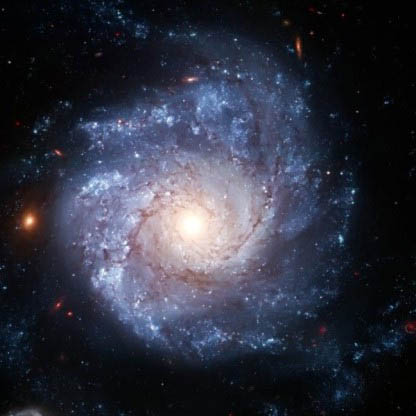NGC 1309: (26, 22, 359, 384)
